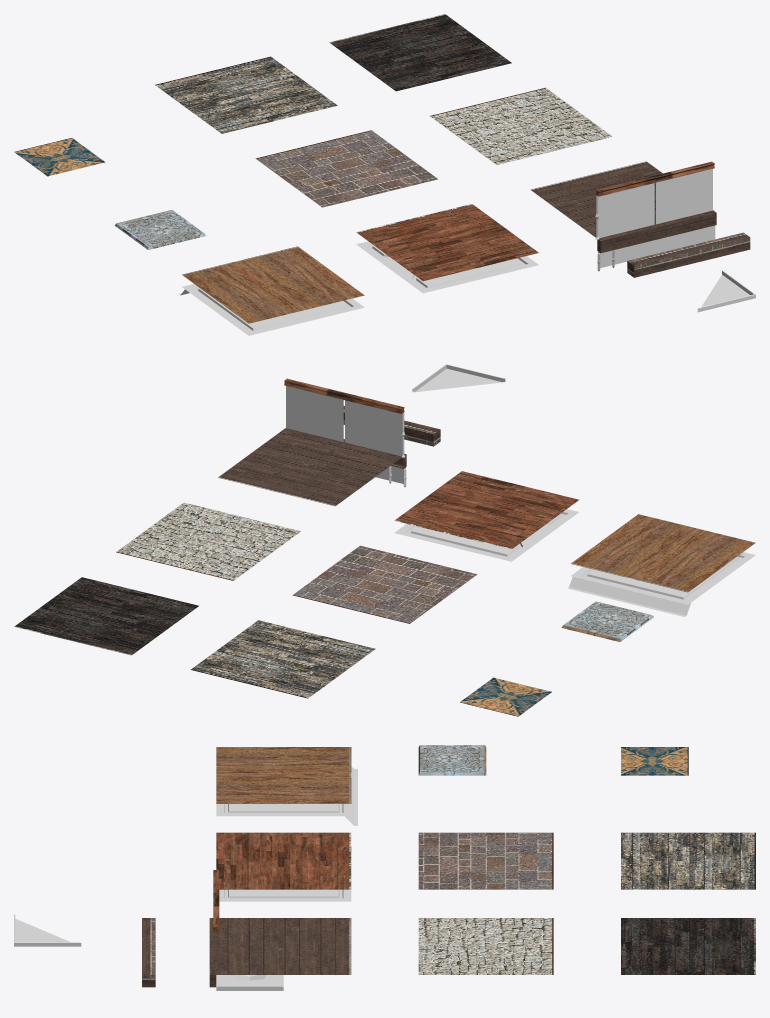
File: AssetsHall.fbx
3 renders of one model, top to bottom at view 1: azimuth 30°, elevation 25°; view 2: azimuth 150°, elevation 25°; view 3: azimuth 270°, elevation 25°, orthographic.
Visible parts, largest first — view 1: ChaoMadeira, ChaoMadeiraAntiga, ChaoMadeiraAntigaEscura, ChaoMadeiraTabuas, ChaoTijolos, ParedePedra, Parapeito, ChaoMadeiraEscura, VigaMadeiraEscura, Teto1, Teto2, ChapDecorado1 (+4 smaller); view 2: ChaoMadeira, ChaoMadeiraAntiga, ChaoMadeiraTabuas, ChaoMadeiraAntigaEscura, ChaoTijolos, ParedePedra, ChaoMadeiraEscura, Parapeito, Teto1, Teto2, ChapDecorado1, ChaoDecorado2 (+3 smaller); view 3: ChaoTijolos, ChaoMadeiraAntiga, ChaoMadeiraTabuas, ChaoMadeira, ParedePedra, ChaoMadeiraEscura, ChaoMadeiraAntigaEscura, ChapDecorado1, ChaoDecorado2, Teto1, Teto2, Teto3 (+3 smaller).
Part boxes in pixels (x1=…): ChaoMadeira: x1=182, y1=246, x2=364, y2=323; ChaoMadeiraAntiga: x1=155, y1=56, x2=337, y2=133; ChaoMadeiraAntigaEscura: x1=329, y1=14, x2=511, y2=91; ChaoMadeiraTabuas: x1=356, y1=204, x2=538, y2=281; ChaoTijolos: x1=255, y1=130, x2=437, y2=207; ParedePedra: x1=430, y1=87, x2=612, y2=164; Parapeito: x1=596, y1=161, x2=714, y2=237; ChaoMadeiraEscura: x1=530, y1=161, x2=662, y2=237; VigaMadeiraEscura: x1=627, y1=232, x2=750, y2=277; Teto1: x1=182, y1=284, x2=364, y2=335; Teto2: x1=356, y1=241, x2=538, y2=293; ChapDecorado1: x1=115, y1=210, x2=205, y2=249; ChaoMadeira: x1=571, y1=514, x2=755, y2=592; ChaoMadeiraAntiga: x1=190, y1=620, x2=375, y2=698; ChaoMadeiraTabuas: x1=394, y1=471, x2=579, y2=549; ChaoMadeiraAntigaEscura: x1=14, y1=577, x2=198, y2=655; ChaoTijolos: x1=292, y1=545, x2=477, y2=623; ParedePedra: x1=116, y1=502, x2=300, y2=580; ChaoMadeiraEscura: x1=218, y1=428, x2=401, y2=506; Parapeito: x1=284, y1=378, x2=404, y2=455; Teto1: x1=571, y1=552, x2=755, y2=604; Teto2: x1=394, y1=509, x2=578, y2=561; ChapDecorado1: x1=561, y1=601, x2=653, y2=641; ChaoDecorado2: x1=460, y1=677, x2=551, y2=716; ChaoTijolos: x1=418, y1=832, x2=553, y2=889; ChaoMadeiraAntiga: x1=621, y1=832, x2=755, y2=889; ChaoMadeiraTabuas: x1=216, y1=832, x2=351, y2=889; ChaoMadeira: x1=216, y1=747, x2=351, y2=803; ParedePedra: x1=418, y1=918, x2=553, y2=974; ChaoMadeiraEscura: x1=216, y1=918, x2=351, y2=974; ChaoMadeiraAntigaEscura: x1=621, y1=918, x2=755, y2=974; ChapDecorado1: x1=418, y1=745, x2=486, y2=775; ChaoDecorado2: x1=621, y1=747, x2=688, y2=775; Teto1: x1=216, y1=804, x2=351, y2=816; Teto2: x1=219, y1=889, x2=351, y2=901; Teto3: x1=216, y1=975, x2=283, y2=990.
Bounding box in the file's own units: 800 × 130 × 1100.
